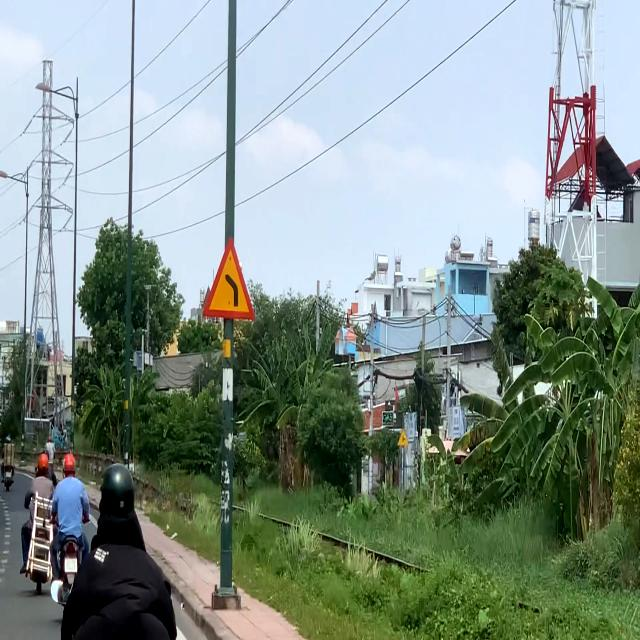W.201a: (199, 234, 258, 330)
